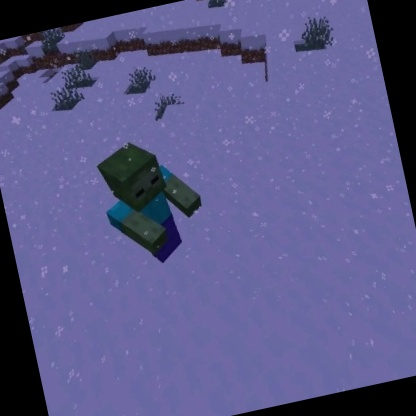zombie: (88, 124, 217, 278)
